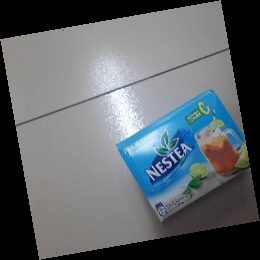Nestea: (114, 91, 255, 227)
